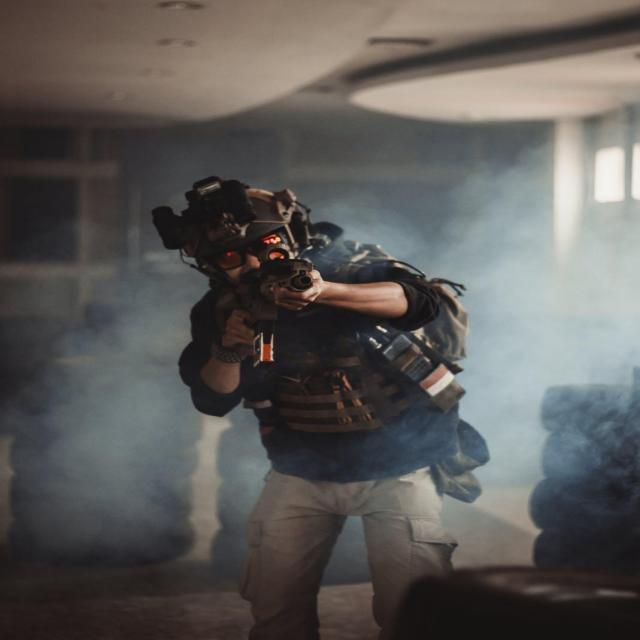weapon: (213, 243, 316, 369)
